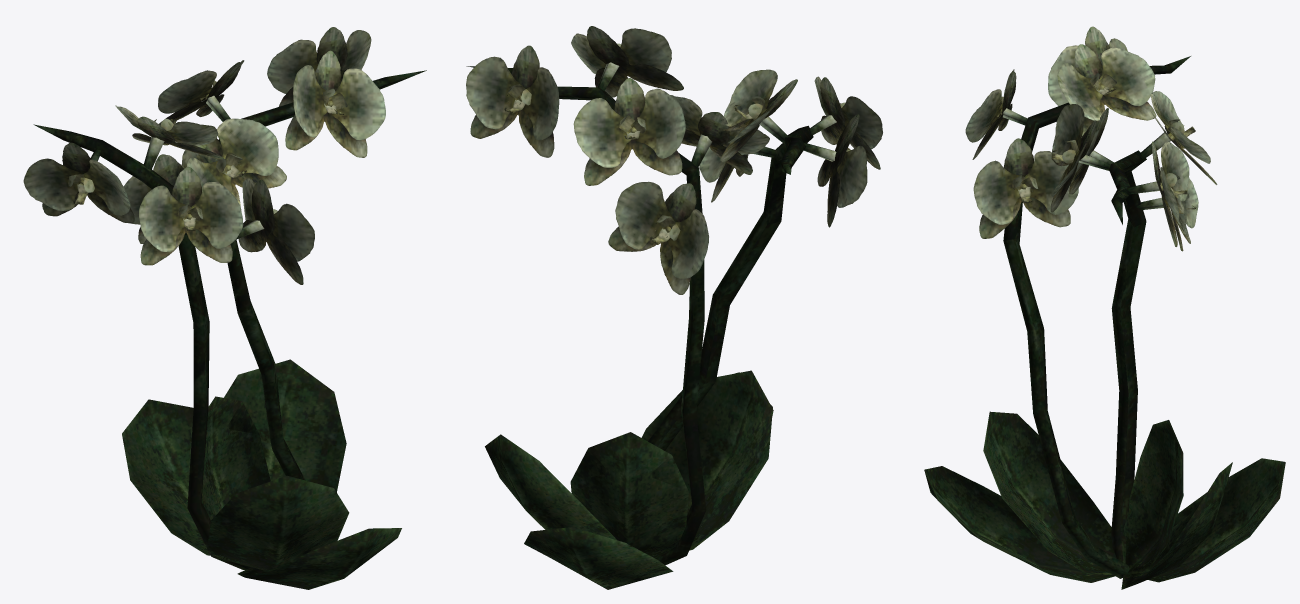
File: orchid.dae
3 renders of one model, left to right at view 1: azimuth 30°, elevation 25°; view 2: azimuth 150°, elevation 25°; view 3: azimuth 270°, elevation 25°, orthographic. The views are drawn at different scales.
Visible parts, largest first — view 1: orchid_mesh; view 2: orchid_mesh; view 3: orchid_mesh.
Part boxes in pixels (left/top/right/bottom): orchid_mesh: left=23, top=27, right=426, bottom=589; orchid_mesh: left=466, top=26, right=882, bottom=589; orchid_mesh: left=924, top=26, right=1285, bottom=589.
Size of the model in its own units: 0.8233 by 1.02 by 0.6671.
